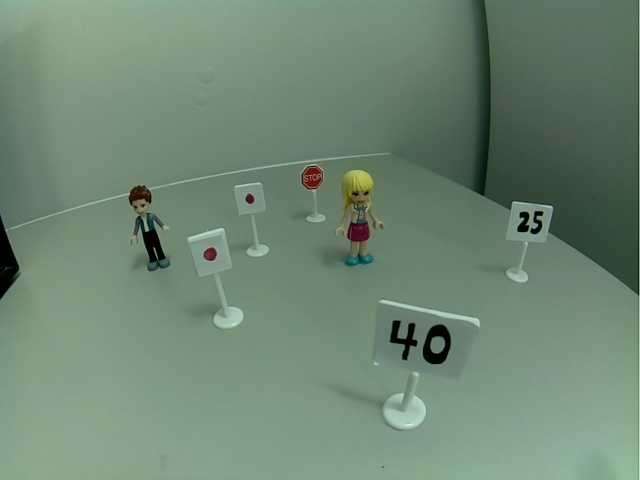people: (333, 167, 387, 270), (125, 183, 174, 274)
red light: (185, 227, 235, 279), (233, 180, 268, 217)
speed 25: (504, 198, 555, 246)
speed 40: (369, 298, 480, 384)
